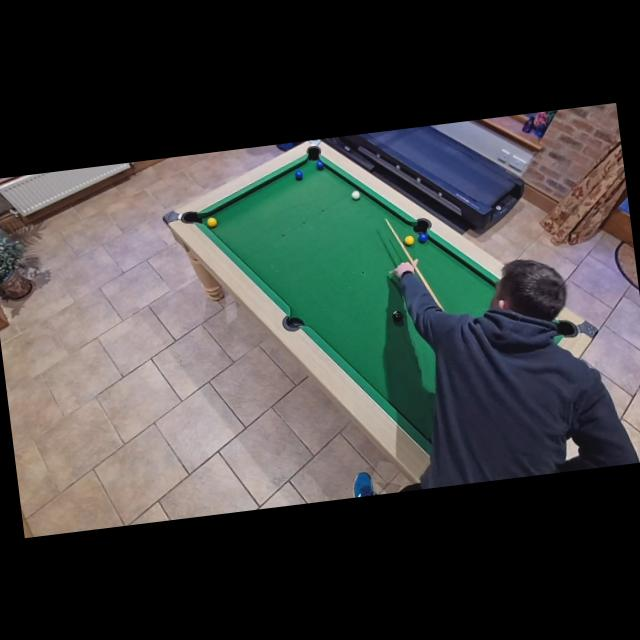Ball: (416, 232, 428, 244), (391, 310, 403, 322), (351, 188, 362, 200), (206, 216, 218, 227), (404, 235, 414, 246), (294, 170, 304, 180), (316, 160, 324, 170)
